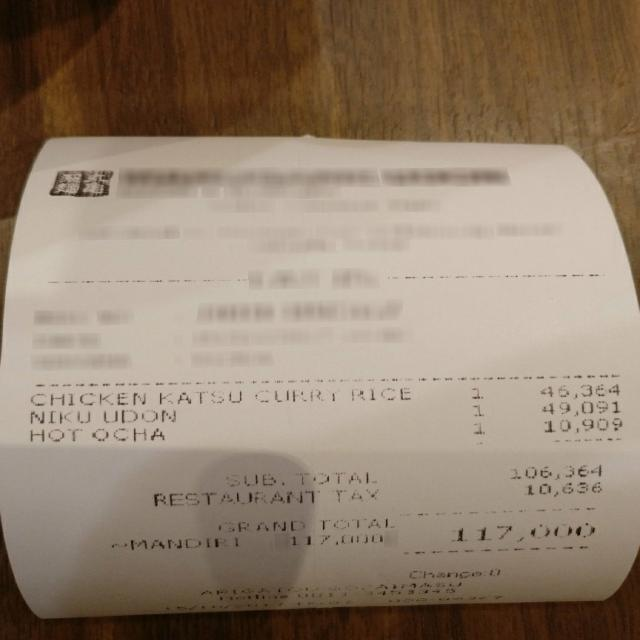kertas: (2, 136, 639, 618)
